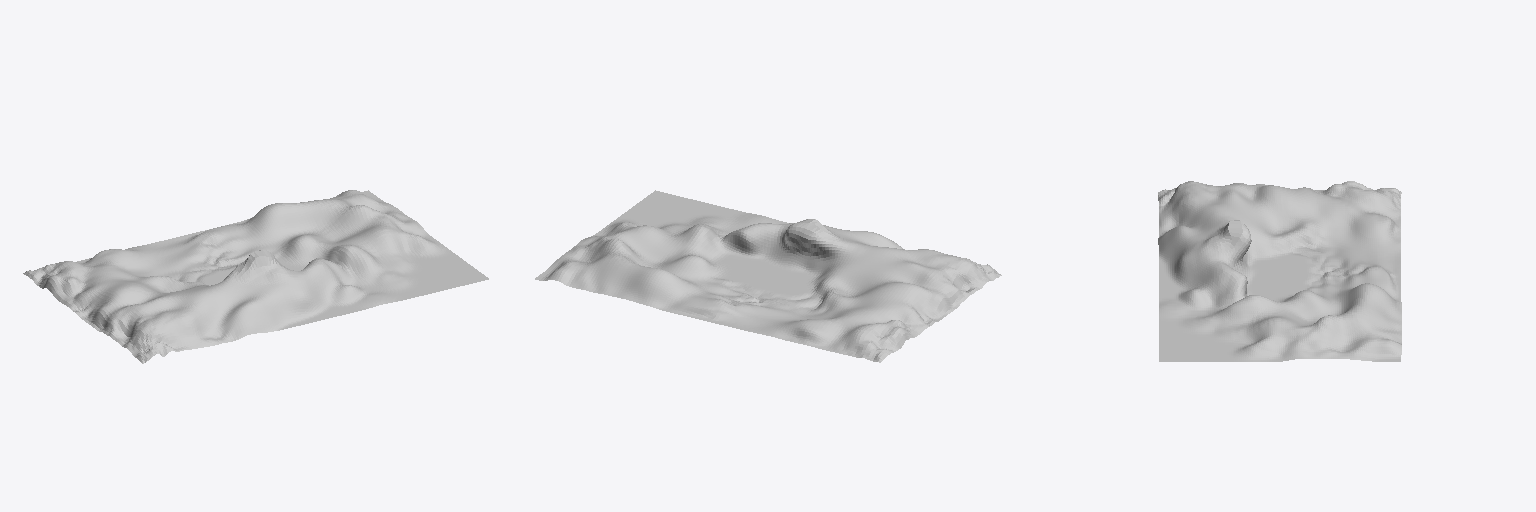
File: Farm.obj
3 views of the same model, side by side, from view 1: azimuth 30°, elevation 25°; view 2: azimuth 150°, elevation 25°; view 3: azimuth 270°, elevation 25° (orthographic).
Parts seen in each view (by area): view 1: Plane.002; view 2: Plane.002; view 3: Plane.002.
Boxes of the visible parts, x1,y1,x2,y2 form: Plane.002: [23, 190, 488, 363]; Plane.002: [535, 190, 1001, 362]; Plane.002: [1158, 181, 1401, 361].
Size of the model in its own units: 1425 by 189 by 866.